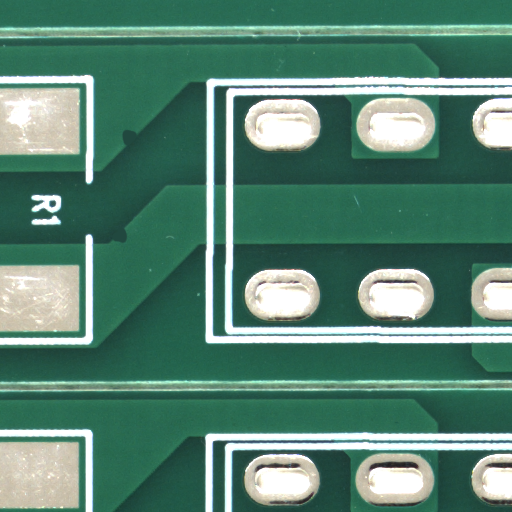Mouse_bite: (120, 234, 136, 250), (130, 138, 145, 153)
